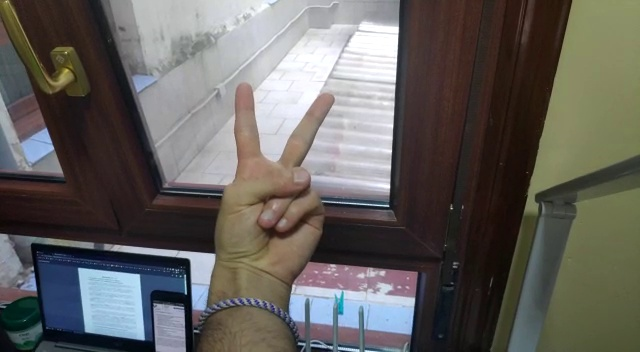Peace: (206, 80, 343, 262)
